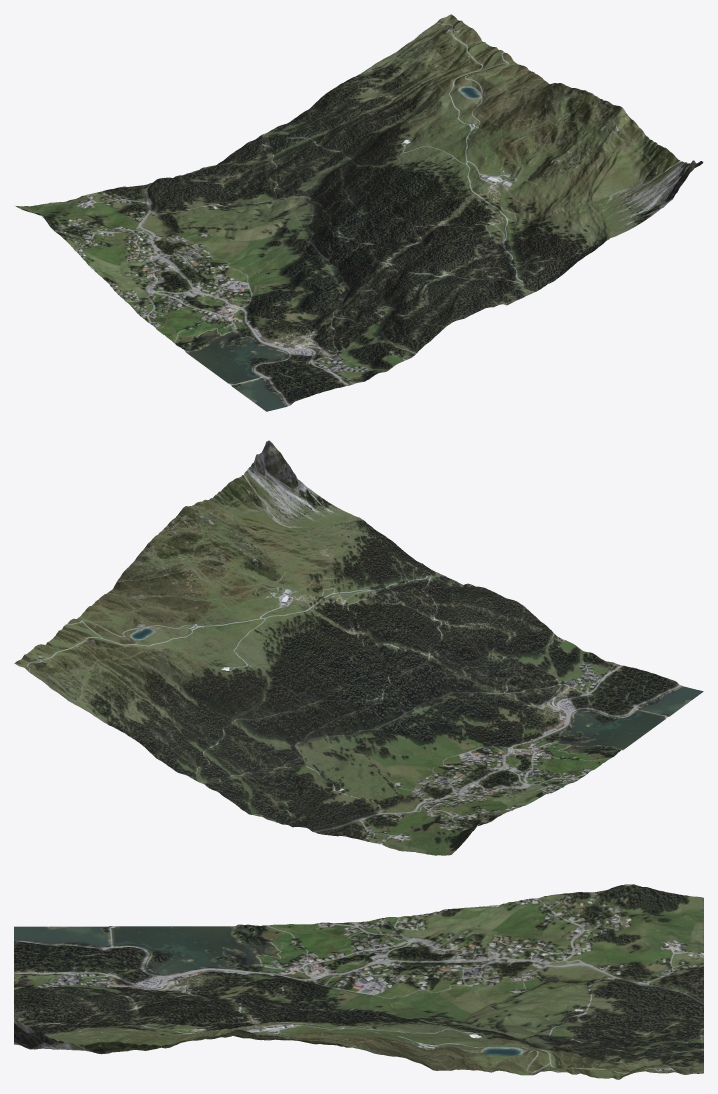
The model's file is terrain-high.glb.
3 renders of one model, top to bottom at view 1: azimuth 30°, elevation 25°; view 2: azimuth 150°, elevation 25°; view 3: azimuth 270°, elevation 25°, orthographic. The views are drawn at different scales.
Visible parts, largest first — view 1: Lenzerheide terrain high; view 2: Lenzerheide terrain high; view 3: Lenzerheide terrain high.
Part boxes in pixels (left/top/right/bottom): Lenzerheide terrain high: left=14, top=14, right=703, bottom=411; Lenzerheide terrain high: left=14, top=440, right=703, bottom=855; Lenzerheide terrain high: left=14, top=884, right=703, bottom=1079.
Size of the model in its own units: 2300 by 728 by 2300.
1 material, 1 textured.
